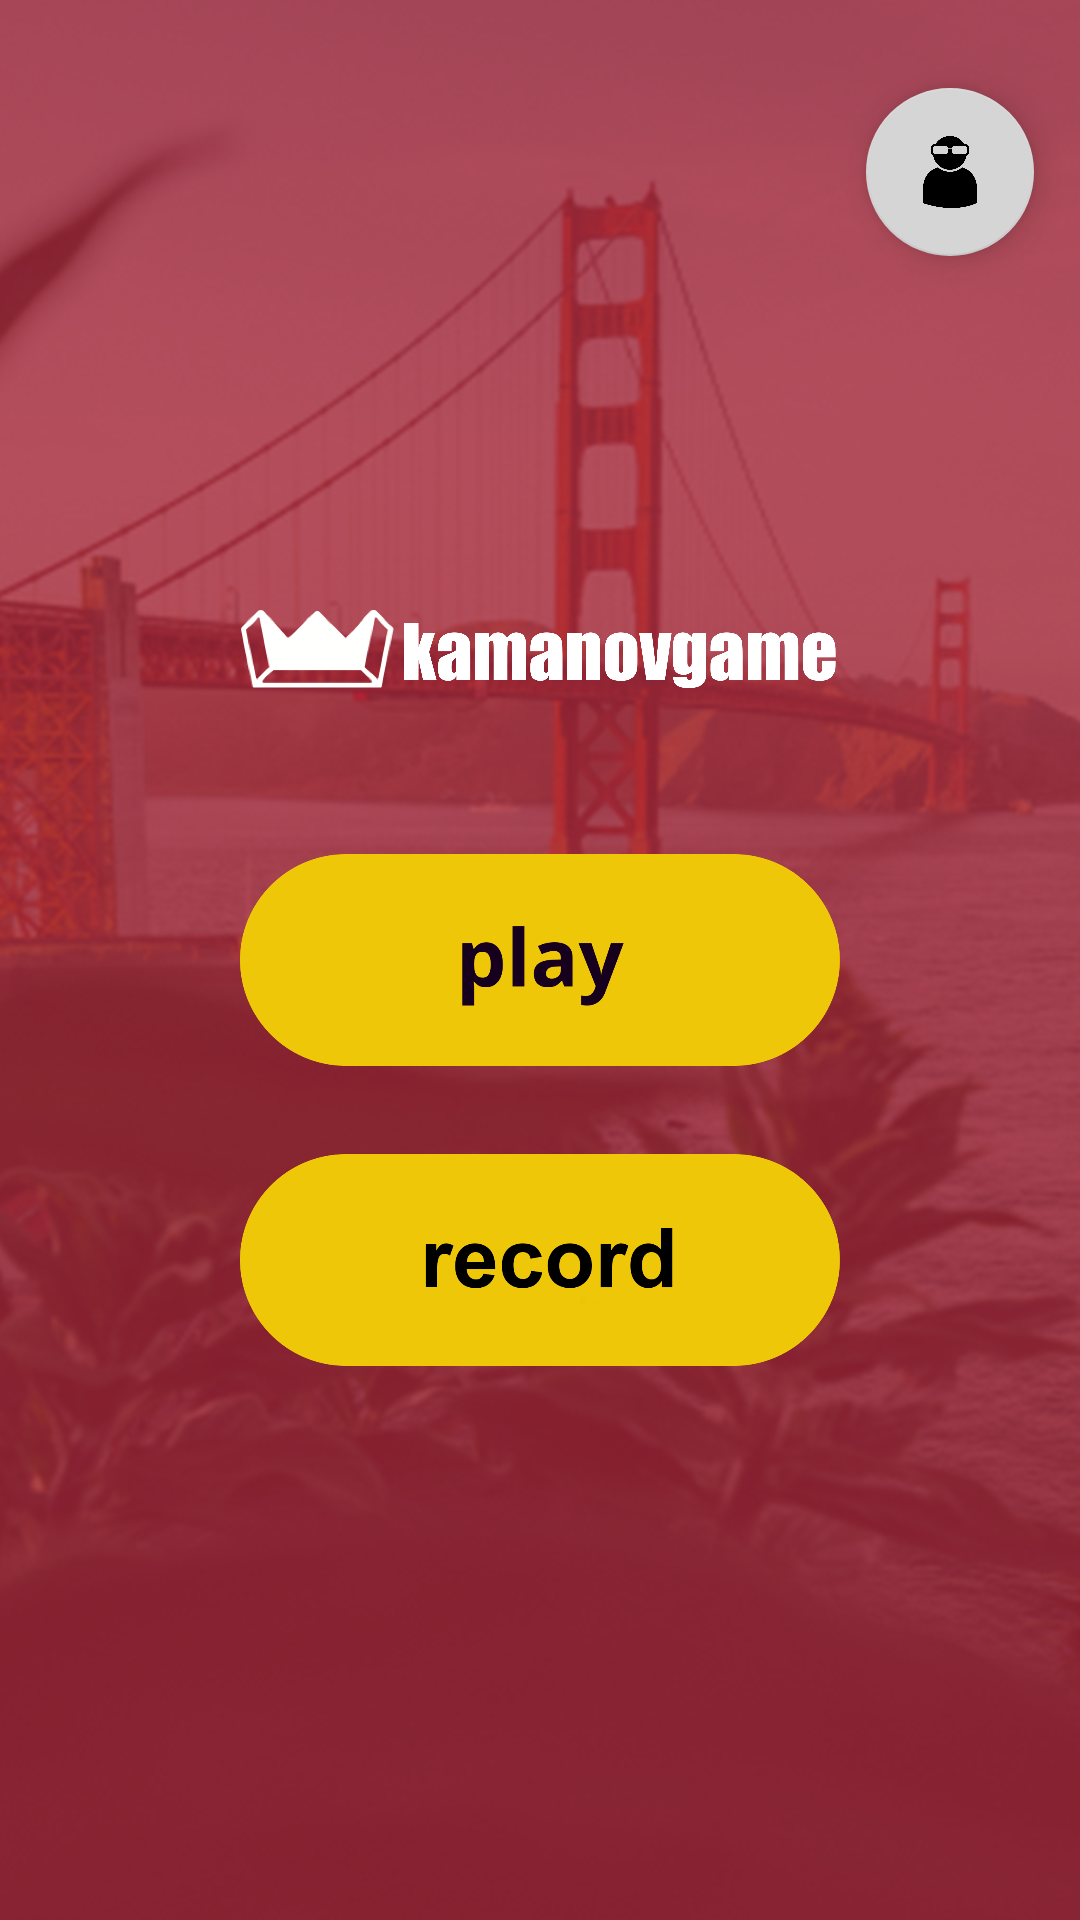

Icons on this 1080px×1920px Android screen, each with its box as bbox(x1, y1, x2, y2):
userrr: bbox(866, 88, 1034, 256)
